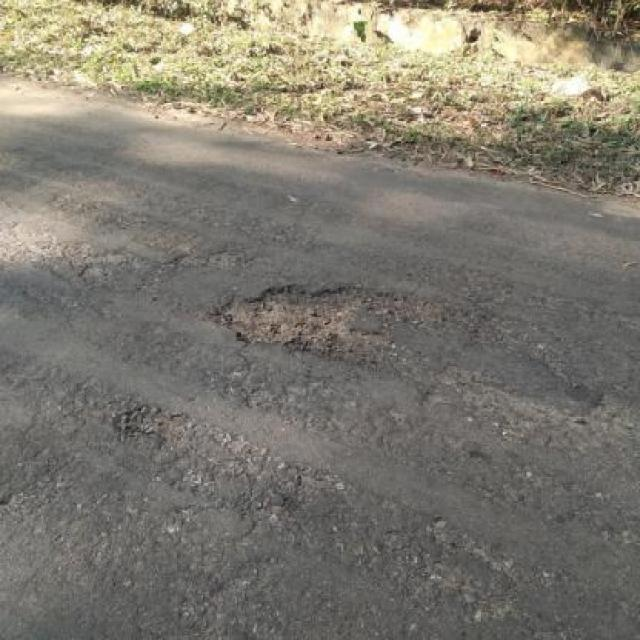pothole: (206, 280, 469, 366), (111, 403, 189, 451)
